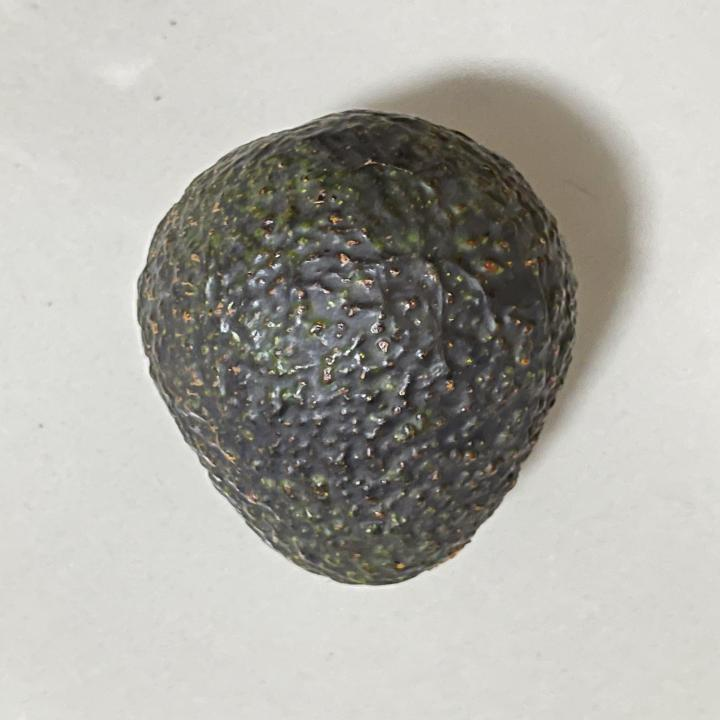Level1: (116, 99, 596, 604)
